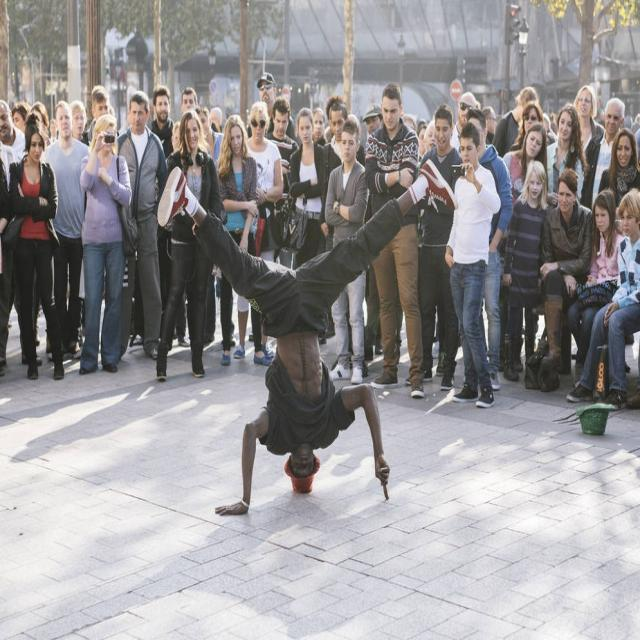body: (154, 153, 458, 516), (0, 356, 530, 462), (362, 77, 429, 401), (152, 109, 222, 384), (402, 98, 465, 393), (442, 118, 502, 411), (8, 109, 68, 381), (74, 110, 133, 377), (116, 89, 168, 361), (466, 106, 514, 391), (233, 100, 284, 359), (323, 118, 370, 385), (566, 189, 626, 394), (539, 167, 593, 394), (44, 99, 89, 359), (215, 112, 260, 361), (504, 156, 550, 387), (566, 189, 625, 367), (322, 99, 368, 252), (11, 83, 130, 138), (288, 105, 328, 268), (583, 96, 626, 212), (546, 100, 591, 206), (501, 122, 549, 206), (264, 98, 302, 204), (490, 84, 540, 159), (597, 126, 640, 207), (247, 71, 296, 142), (573, 84, 606, 152), (508, 99, 545, 152), (150, 85, 175, 160), (0, 152, 9, 316), (404, 115, 439, 153), (200, 104, 222, 156), (312, 97, 336, 142), (449, 95, 473, 134), (535, 110, 560, 143), (10, 99, 32, 134), (484, 104, 503, 133), (164, 118, 180, 152), (362, 104, 382, 130), (182, 86, 196, 108)
